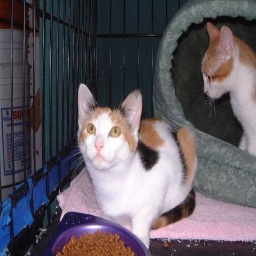cat: (77, 18, 256, 240)
